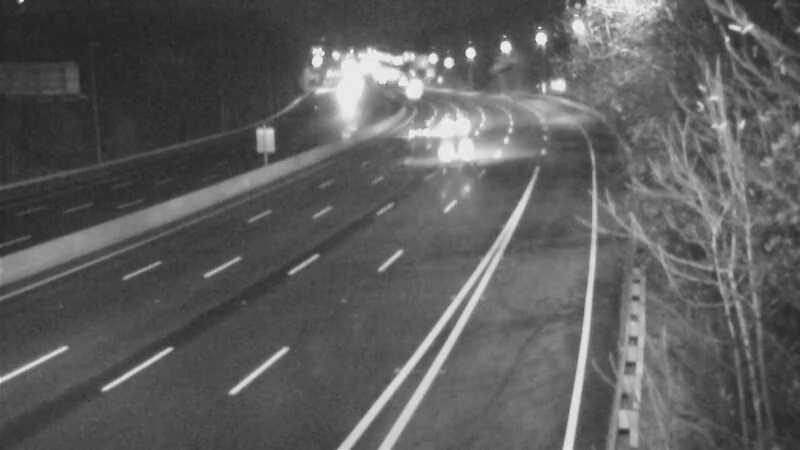vehicle: (416, 113, 496, 193), (391, 66, 441, 116), (433, 96, 483, 146), (392, 105, 442, 155)
